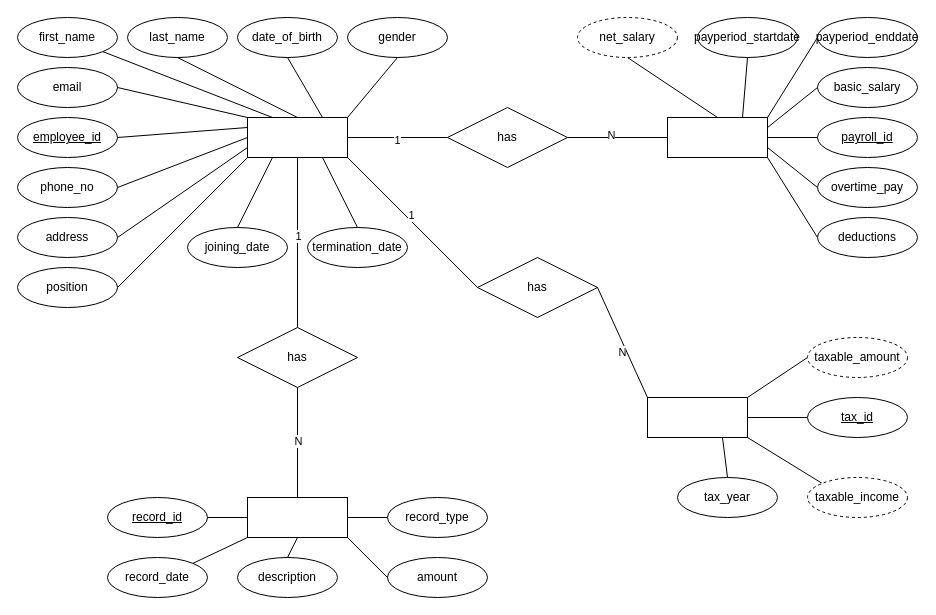
This 936x615 diagram has some shape labels left out. The shapes that lost their labels are listed below. From the top down, each one's centre as x and y in pixels, then its label:
[297,137]: Employee
[717,137]: PayRoll
[697,417]: Tax
[297,517]: FinancialRecord
